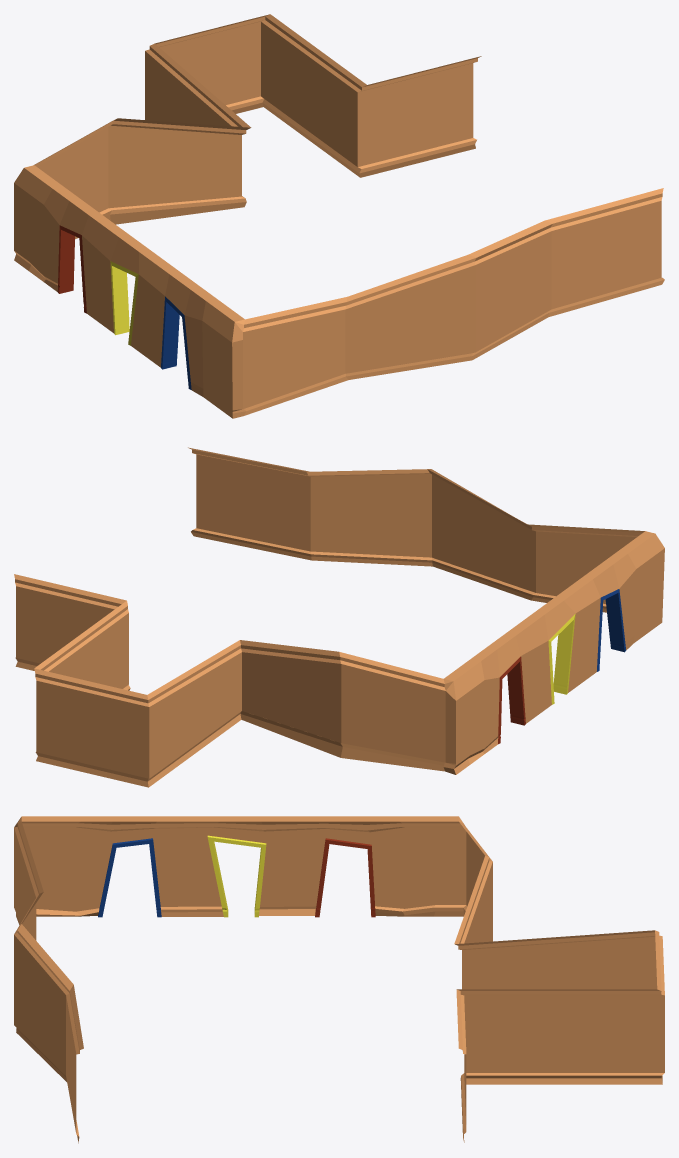
Rendered from Mur_25M.fbx.
3 renders of one model, top to bottom at view 1: azimuth 30°, elevation 25°; view 2: azimuth 150°, elevation 25°; view 3: azimuth 270°, elevation 25°, orthographic. The views are drawn at different scales.
Parts seen in each view (by area): view 1: Mur_Salle25M, Mur_Porte25M; view 2: Mur_Salle25M, Mur_Porte25M; view 3: Mur_Salle25M, Mur_Porte25M.
Part boxes in pixels (x1,y1,x2,y2): Mur_Salle25M: (34,14,664,415); Mur_Porte25M: (14,165,246,418); Mur_Salle25M: (14,447,644,787); Mur_Porte25M: (443,531,664,774); Mur_Salle25M: (14,821,664,1143); Mur_Porte25M: (14,816,466,917).
Bounding box in the file's own units: 2597 × 575 × 3029.
